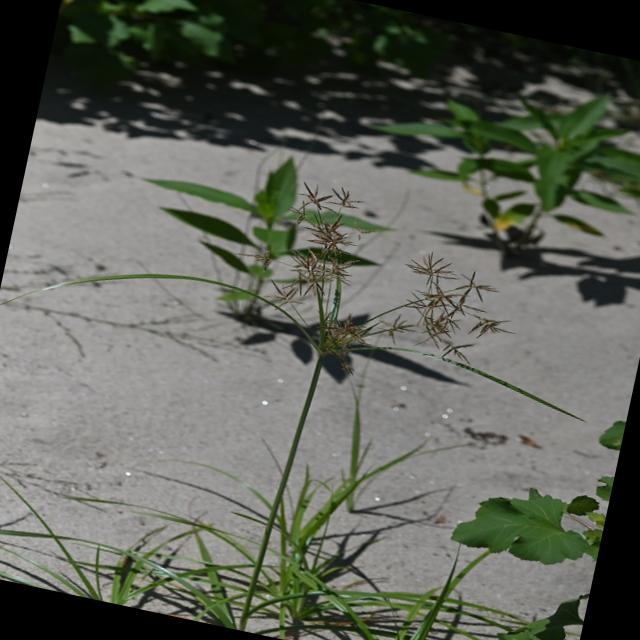cyperus: (222, 165, 530, 408), (234, 166, 376, 326), (385, 246, 520, 390)
